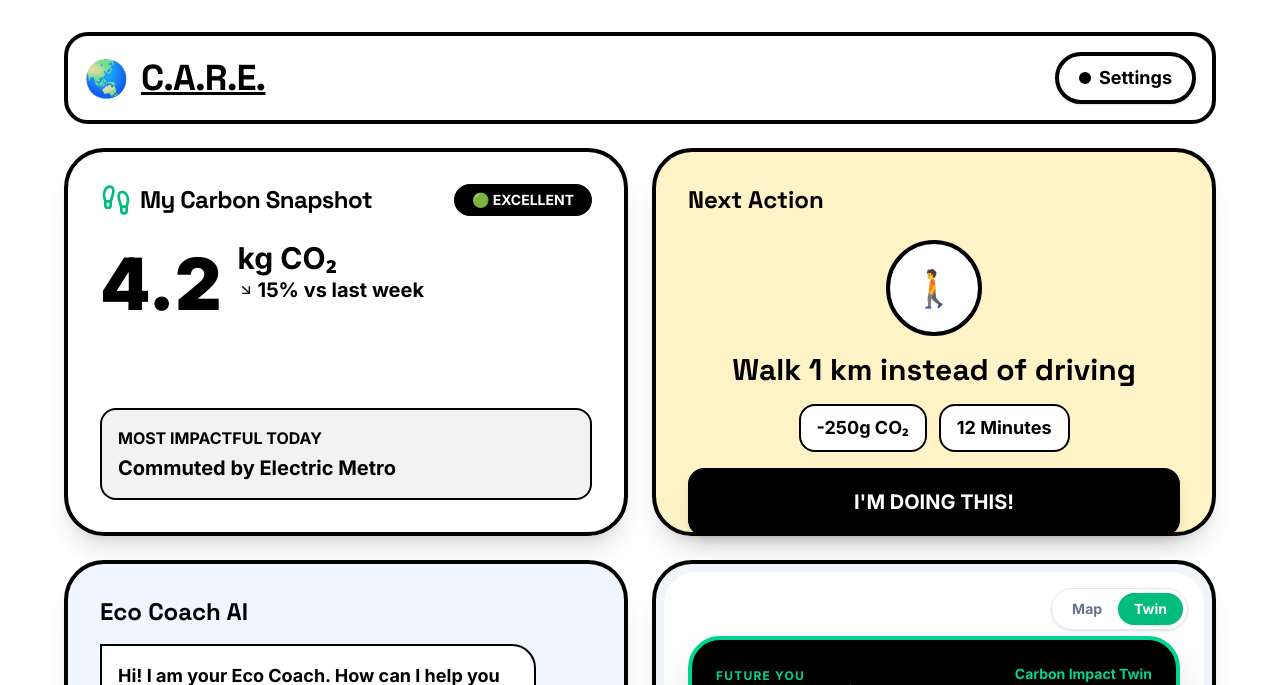
C.A.R.E. App Tests › Context and Settings › closes settings modal when close button is clicked
What coordinates should you click on to do the following:
click the button with aria-label "Open User Settings"
I would click on:
 (1126, 78)
Its box is 1055,52 -> 1196,104.
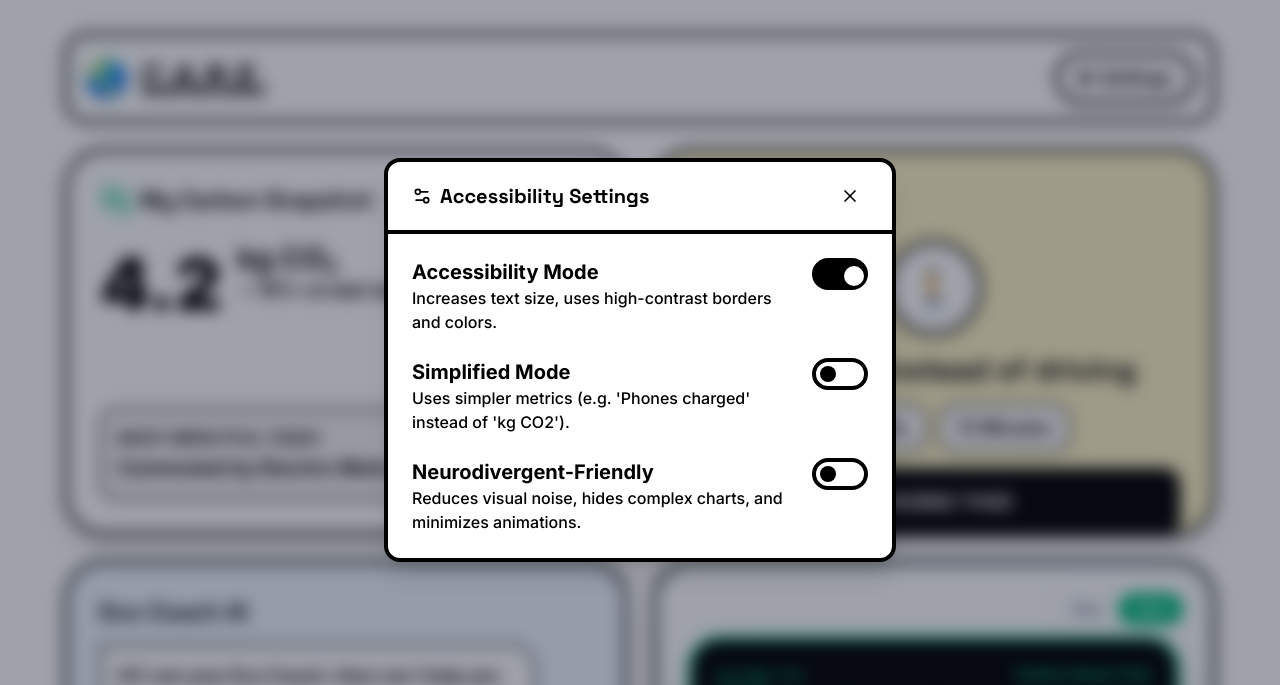
Result: the heading "Accessibility Settings" is shown at 412,182 -> 649,210
What coordinates should you click on to do the following:
click the button
I would click on:
 (850, 196)
Its box is 832,178 -> 868,214.
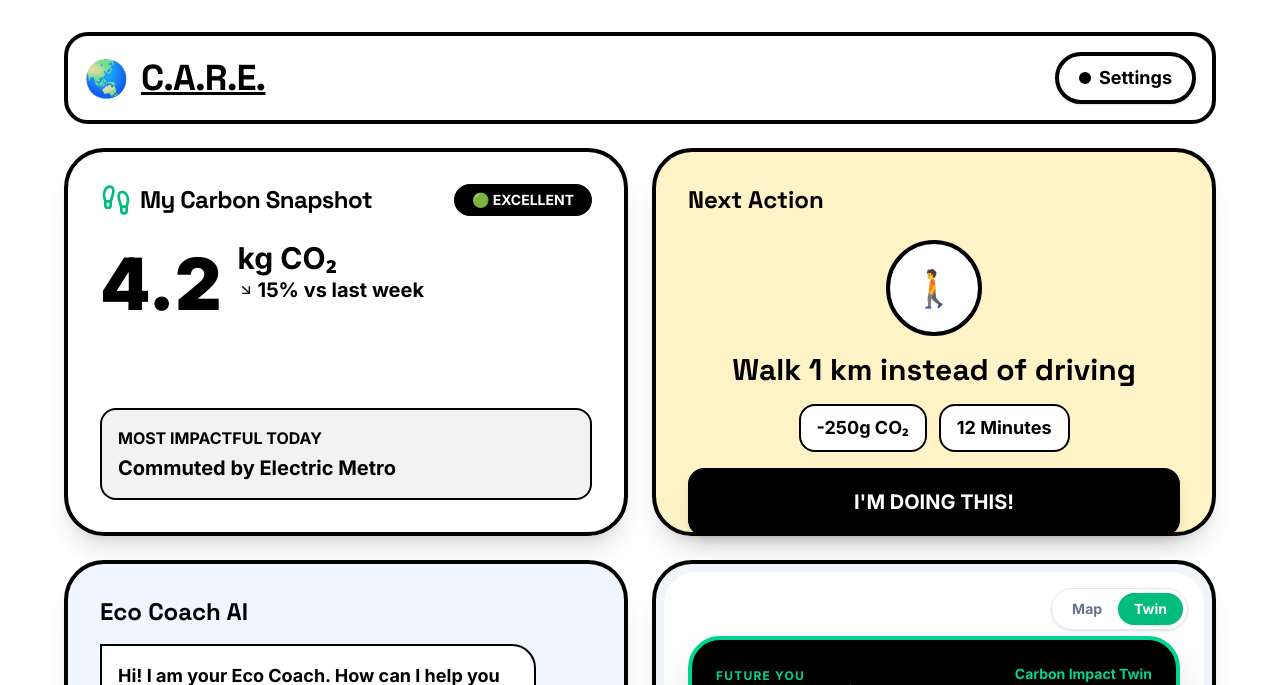
Result: the heading "Accessibility Settings" is gone
